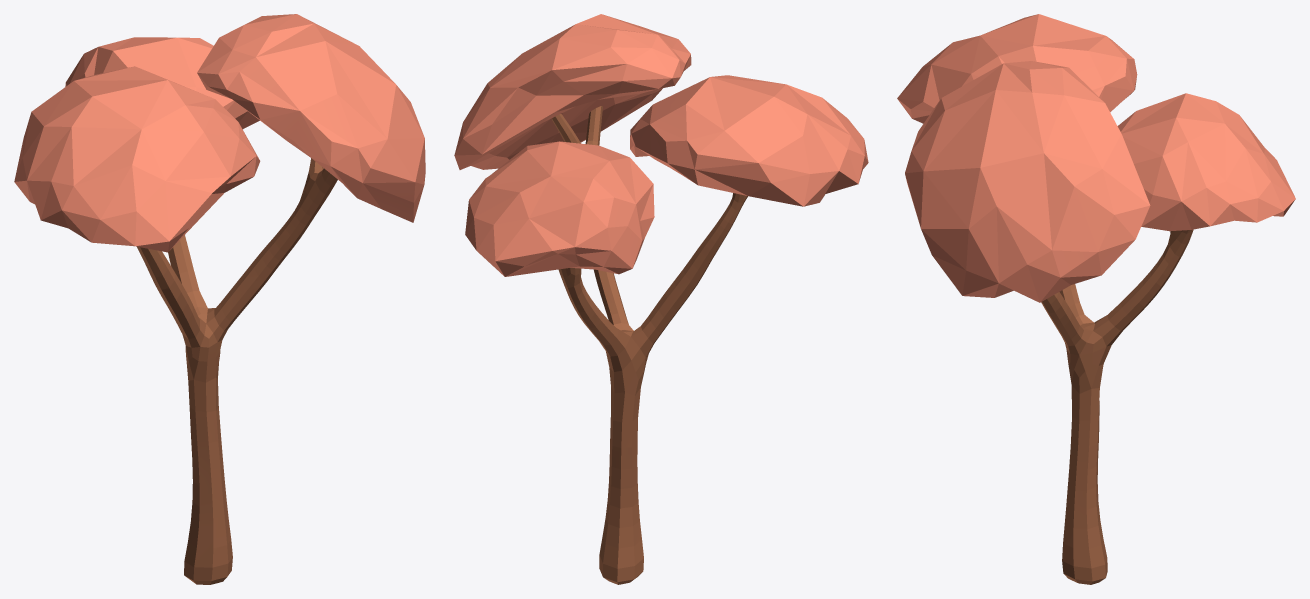
File: arbolCerezoPequeño.glb
3 views of the same model, side by side, from view 1: azimuth 30°, elevation 25°; view 2: azimuth 150°, elevation 25°; view 3: azimuth 270°, elevation 25° (orthographic). The views are drawn at different scales.
Parts seen in each view (by area): view 1: Lowpolytree_5_green.001_Palette_0; view 2: Lowpolytree_5_green.001_Palette_0; view 3: Lowpolytree_5_green.001_Palette_0.
Boxes of the visible parts, x1,y1,x2,y2 form: Lowpolytree_5_green.001_Palette_0: (14,14,425,584); Lowpolytree_5_green.001_Palette_0: (454,14,868,584); Lowpolytree_5_green.001_Palette_0: (897,14,1295,584).
Bounding box in the file's own units: 6.18 × 8.51 × 5.84.
Materials: 1 (1 with a texture image).
